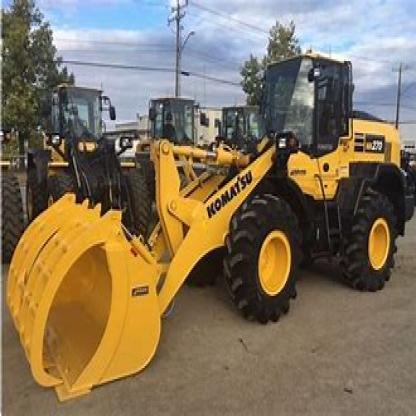bull_dozer/loader/grader: (6, 41, 411, 412)
